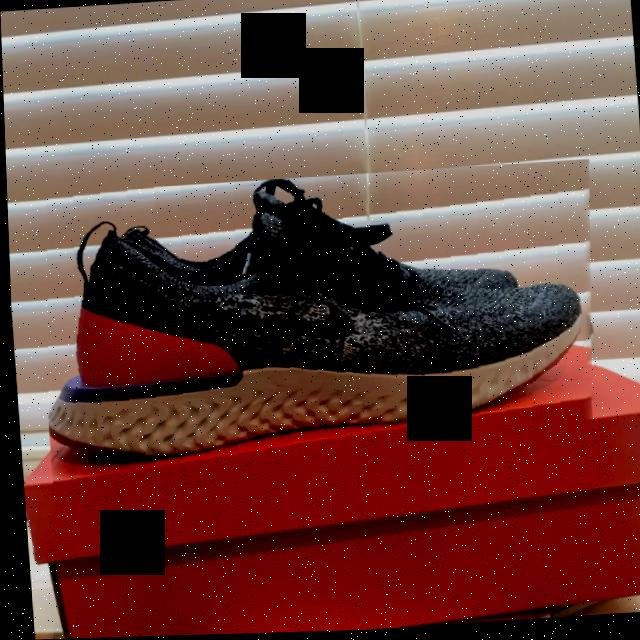shoe: (30, 162, 608, 490)
